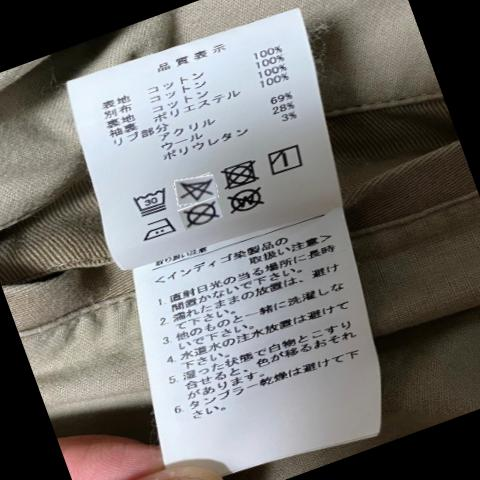30C: (135, 182, 170, 219)
DN_bleach: (181, 170, 217, 203)
DN_dry_clean: (184, 202, 221, 231)
DN_tumble_dry: (221, 155, 263, 189)
DN_wet_clean: (227, 185, 267, 220)
iron_medium: (141, 216, 176, 246)
